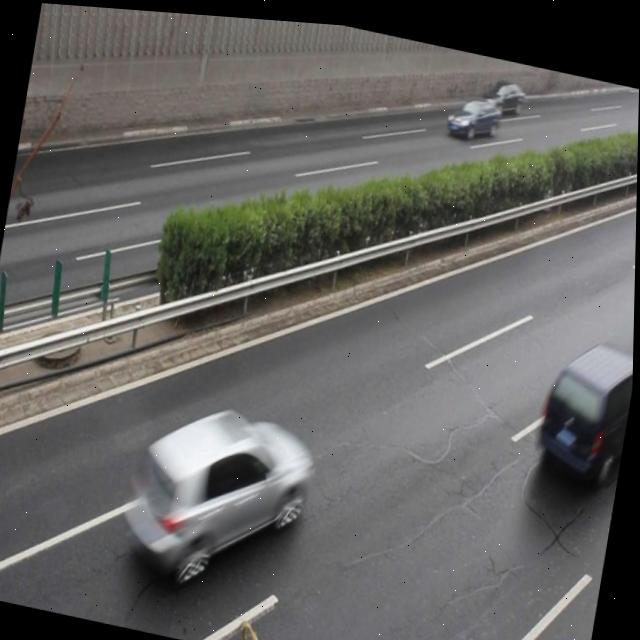car: (120, 384, 320, 595), (445, 87, 500, 138), (479, 67, 524, 114)
truck: (536, 320, 635, 472)
